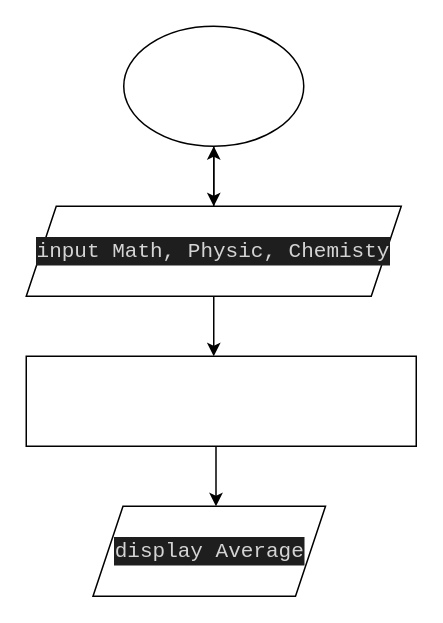
Some shapes in this 443 by 623 pixel diagram are drawn without their labels. The centre of each missing label's shape, as x and y in pixels:
average=(Math + Physics + chemistry) / 3: (x=220, y=400)
Begin: (x=213, y=85)
